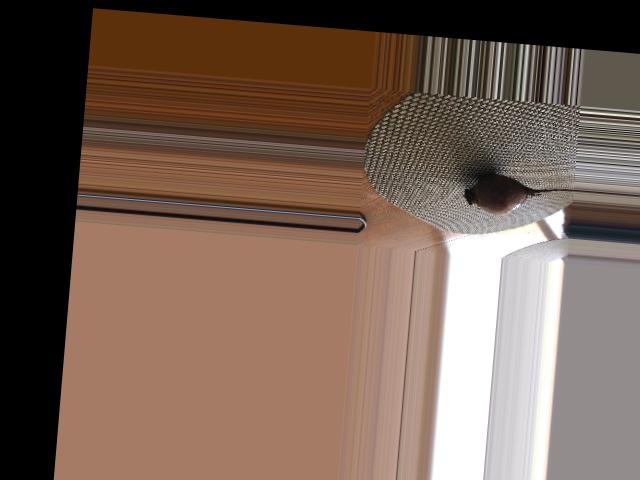beet: (462, 172, 573, 220)
